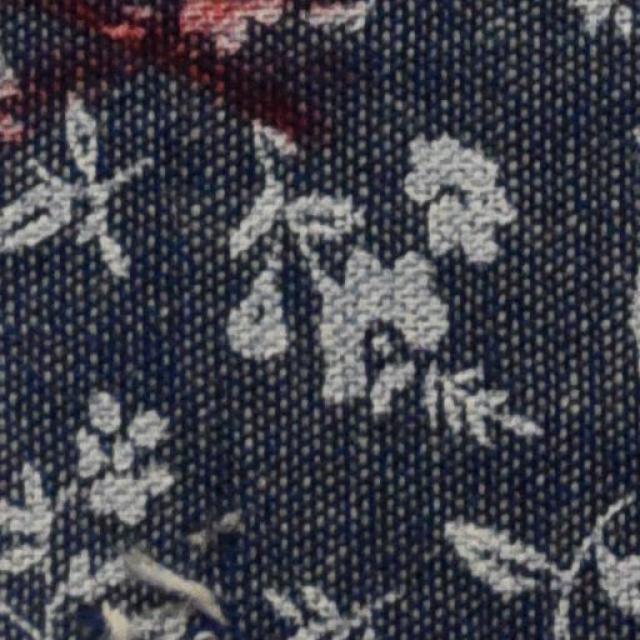Stain: (0, 0, 316, 151)
